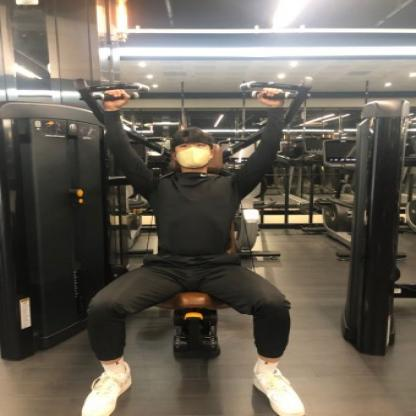shoulder press machine: (0, 59, 344, 416)
